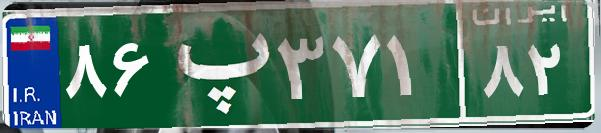1: (385, 28, 445, 110)
2: (525, 38, 570, 115)
3: (273, 28, 330, 110)
6: (110, 28, 158, 105)
7: (330, 28, 385, 110)
8: (57, 26, 110, 107), (475, 38, 525, 113)
پ: (158, 15, 273, 115)
